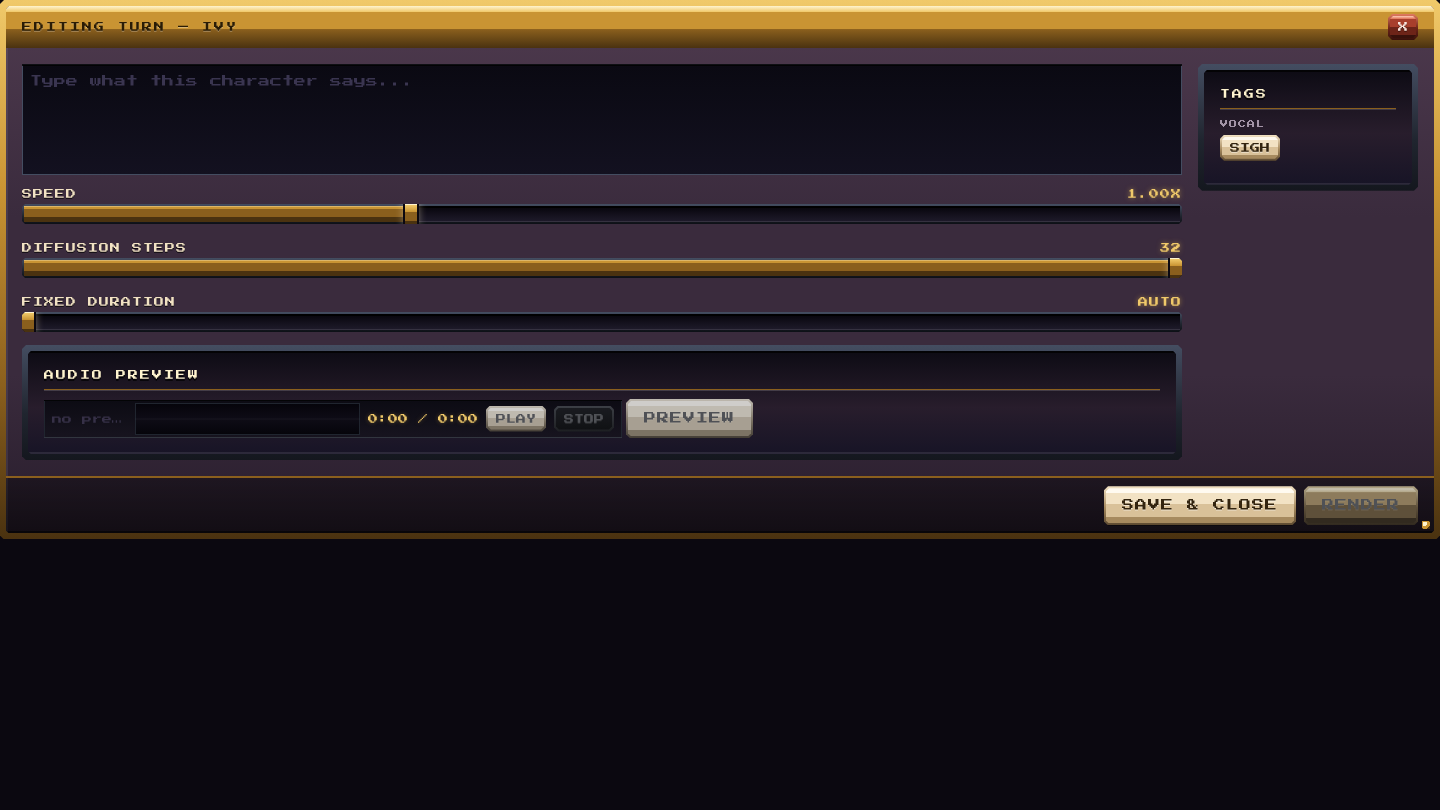
Test: TurnEditor › inserts a tag at the caret from the tag panel
Type "Hello" into the text box named "Turn text" at (602, 120), box [22, 64, 1182, 175]
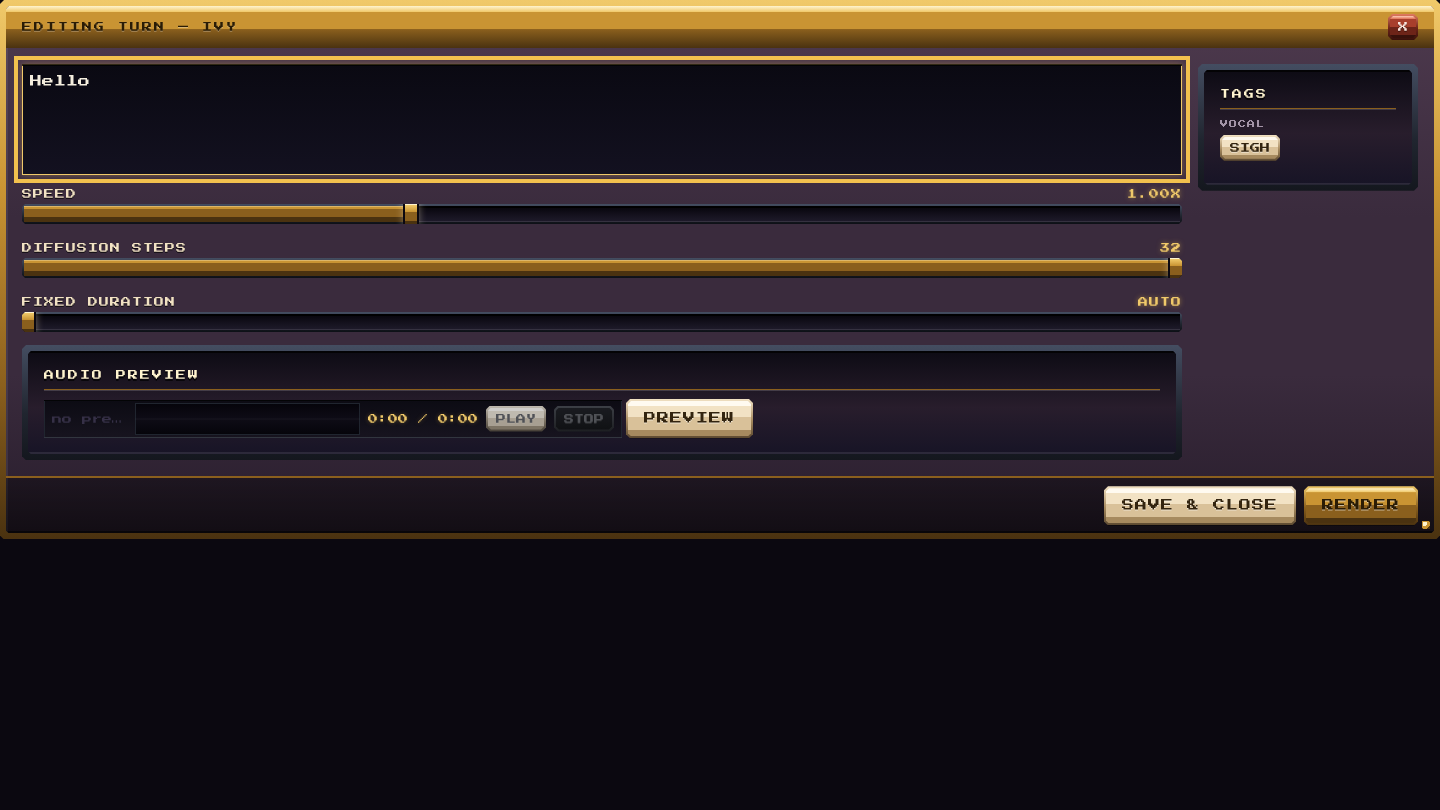
Click the button "Sigh" at (1250, 148), box [1220, 135, 1280, 161]
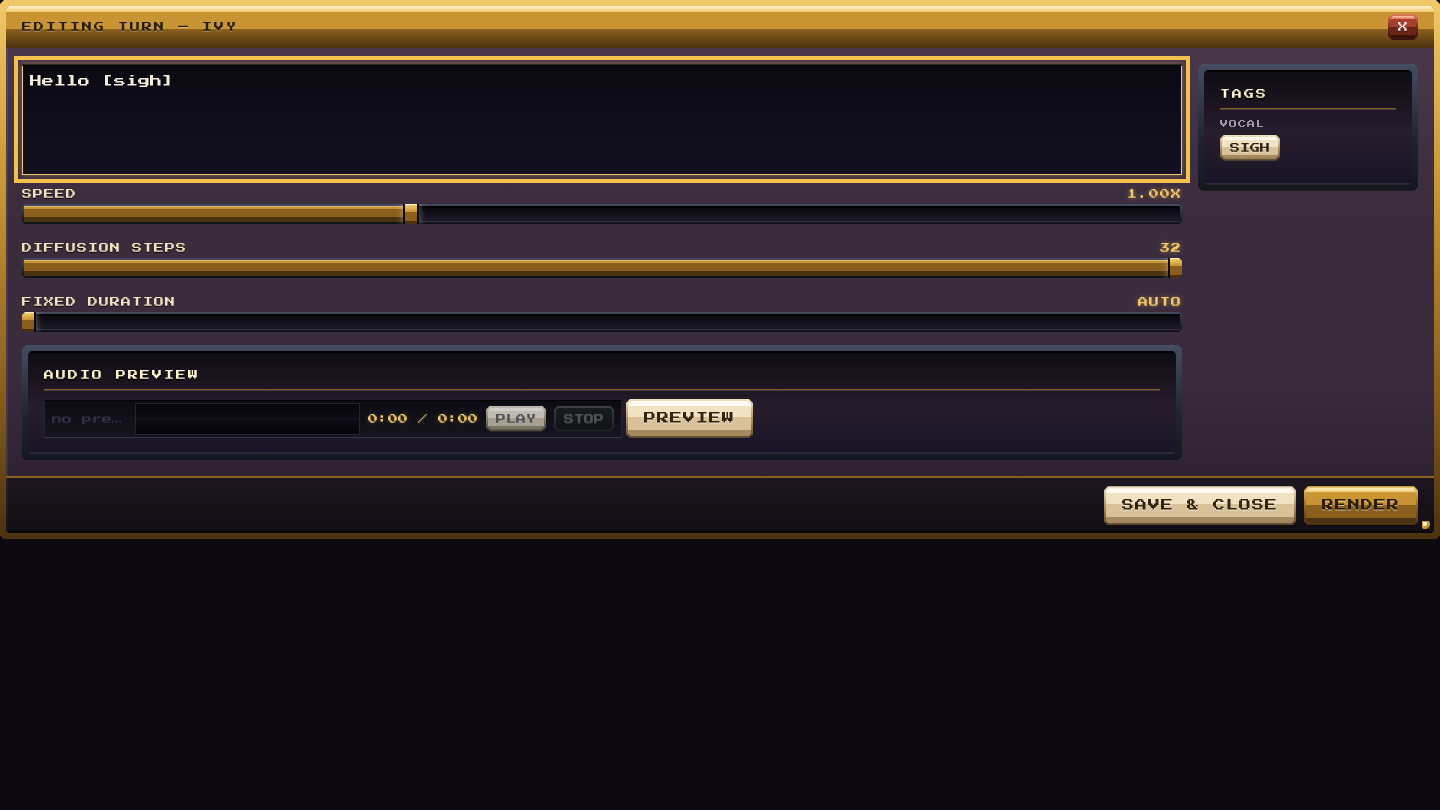
Expected: the text box named "Turn text" holds "Hello [sigh] ", [22, 64, 1182, 175]
